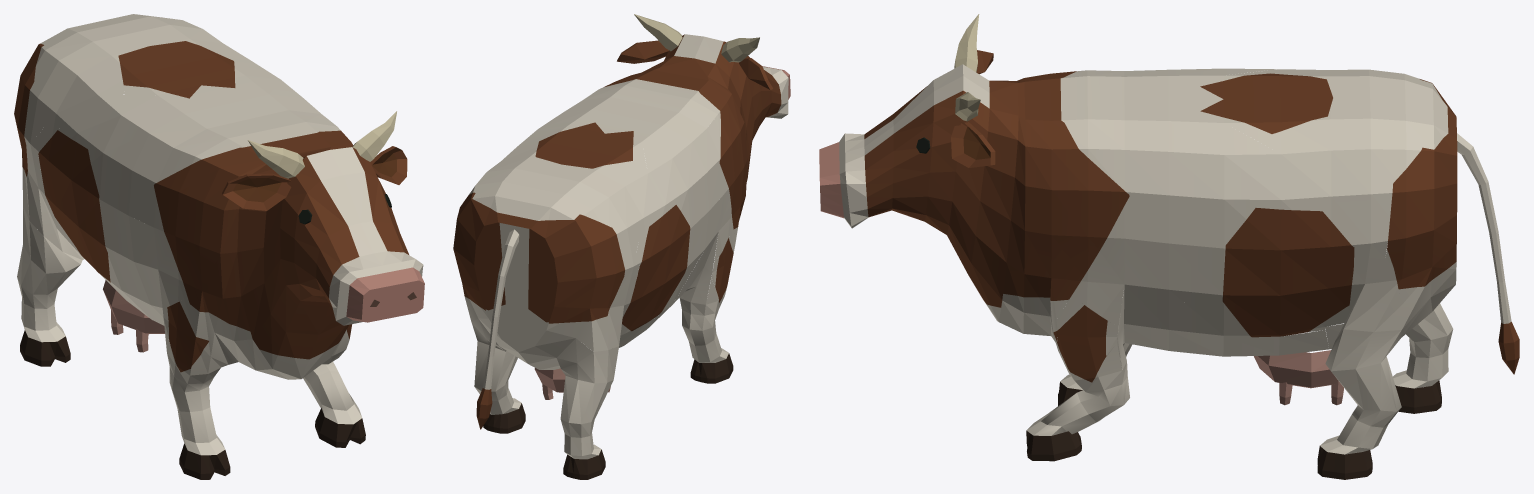
The model's file is cow-base__walk3.glb.
The picture shows the model from 3 angles, left to right: view 1: azimuth 30°, elevation 25°; view 2: azimuth 150°, elevation 25°; view 3: azimuth 270°, elevation 25°; orthographic projection. The views are drawn at different scales.
Parts seen in each view (by area): view 1: cow-base__walk3; view 2: cow-base__walk3; view 3: cow-base__walk3.
Boxes of the visible parts, x1,y1,x2,y2 form: cow-base__walk3: (14,14,424,479); cow-base__walk3: (453,14,790,479); cow-base__walk3: (819,14,1519,479).
Size of the model in its own units: 0.8416 by 1.45 by 2.38.
